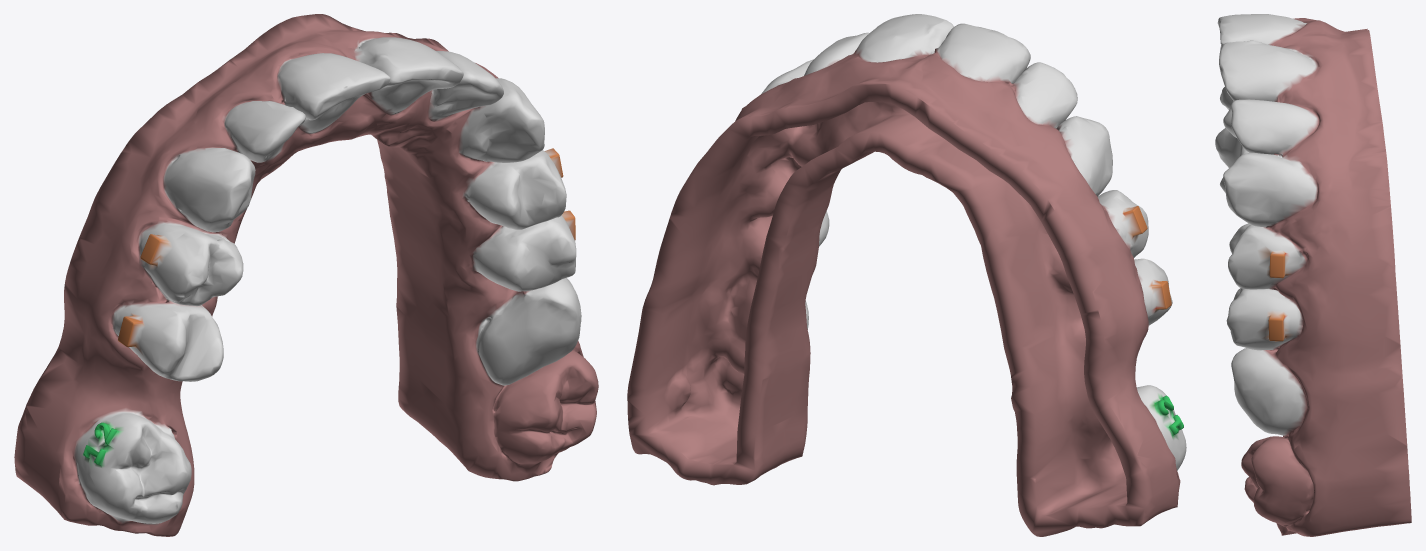
File: upper-model-12.glb
3 renders of one model, left to right at view 1: azimuth 30°, elevation 25°; view 2: azimuth 150°, elevation 25°; view 3: azimuth 270°, elevation 25°, orthographic. The views are drawn at different scales.
Parts seen in each view (by area): view 1: 12; view 2: 12; view 3: 12.
Boxes of the visible parts, x1,y1,x2,y2 form: 12: (14, 14, 598, 536); 12: (627, 14, 1186, 536); 12: (1215, 14, 1411, 536).
Size of the model in its own units: 57.13 by 48.46 by 20.66.
